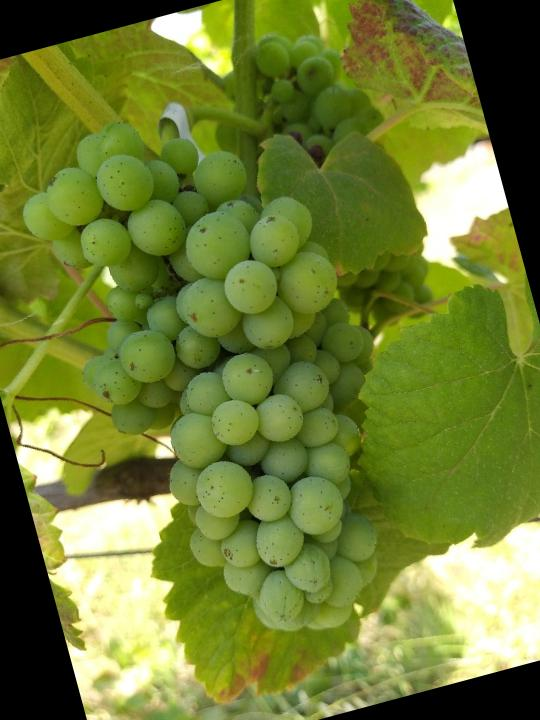grape: (2, 65, 448, 682)
